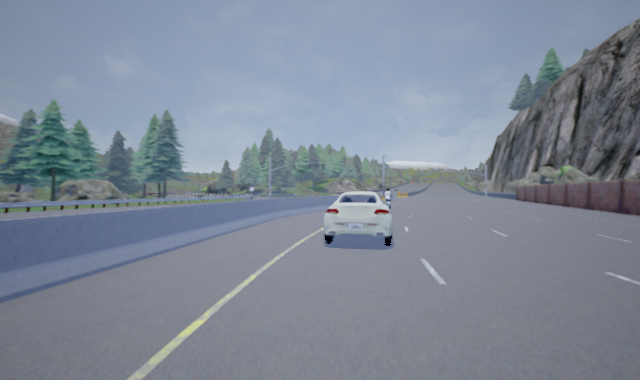bike: (383, 186, 392, 214)
vehicle: (322, 190, 394, 246)
